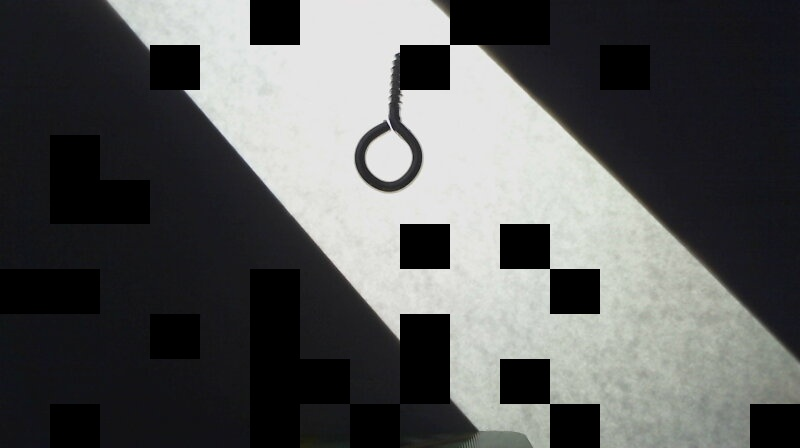O001: (350, 50, 425, 193)
